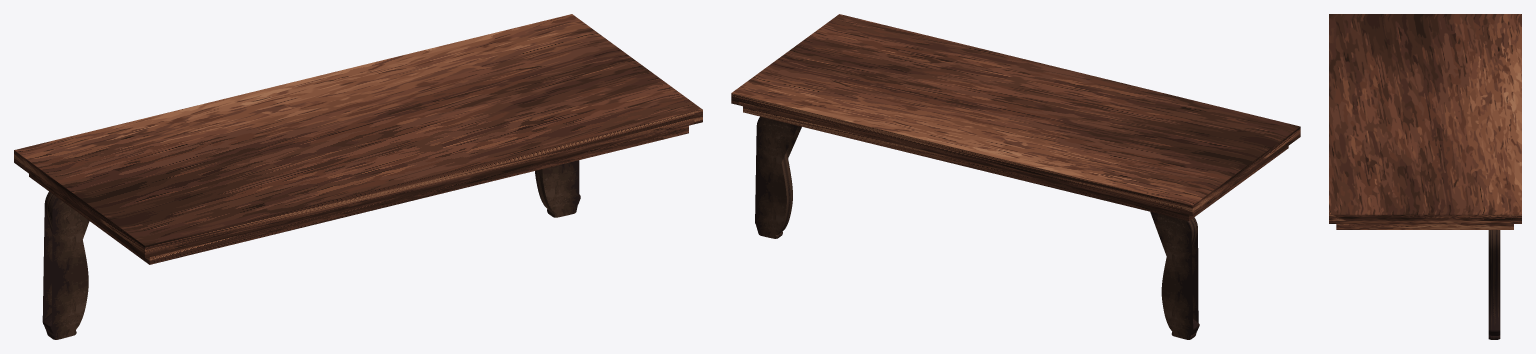
The model's file is maintable.fbx.
3 views of the same model, side by side, from view 1: azimuth 30°, elevation 25°; view 2: azimuth 150°, elevation 25°; view 3: azimuth 270°, elevation 25° (orthographic). The views are drawn at different scales.
Parts seen in each view (by area): view 1: pCube1, polySurface2; view 2: pCube1, polySurface2; view 3: pCube1, polySurface2.
Boxes of the visible parts, x1,y1,x2,y2 form: pCube1: (14, 14, 702, 264); polySurface2: (42, 160, 580, 339); pCube1: (731, 14, 1300, 220); polySurface2: (755, 116, 1199, 339); pCube1: (1329, 14, 1521, 229); polySurface2: (1488, 230, 1500, 339).
Bounding box in the file's own units: 11.38 × 3.5 × 4.62.
